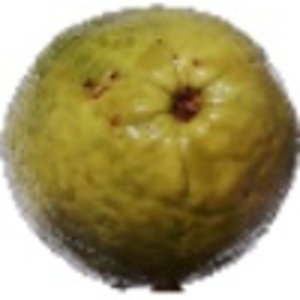goiaba: (3, 5, 297, 285)
